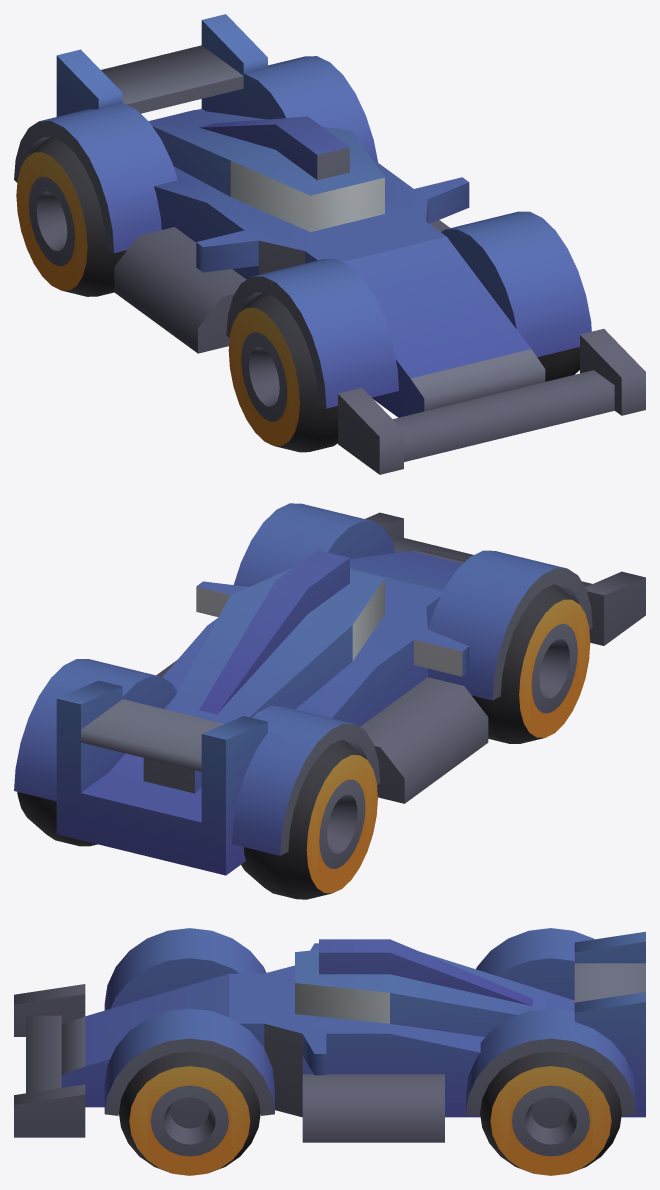
The model's file is race-future.glb.
The picture shows the model from 3 angles, top to bottom: view 1: azimuth 30°, elevation 25°; view 2: azimuth 150°, elevation 25°; view 3: azimuth 270°, elevation 25°; orthographic projection. The views are drawn at different scales.
Visible parts, largest first — view 1: body, wheel-front-right, wheel-back-right, wheel-front-left; view 2: body, wheel-back-right, wheel-front-right, wheel-back-left; view 3: body, wheel-front-left, wheel-back-left.
Boxes of the visible parts, x1,y1,x2,y2 form: body: [14, 14, 645, 474]; wheel-front-right: [228, 292, 337, 452]; wheel-back-right: [16, 137, 126, 296]; wheel-front-left: [537, 347, 579, 381]; body: [14, 503, 645, 875]; wheel-back-right: [241, 740, 377, 899]; wheel-front-right: [471, 584, 590, 743]; wheel-back-left: [17, 792, 97, 846]; body: [14, 928, 645, 1142]; wheel-front-left: [119, 1051, 260, 1175]; wheel-back-left: [480, 1051, 621, 1175].
Size of the model in its own units: 1.2 by 0.8325 by 2.66.
